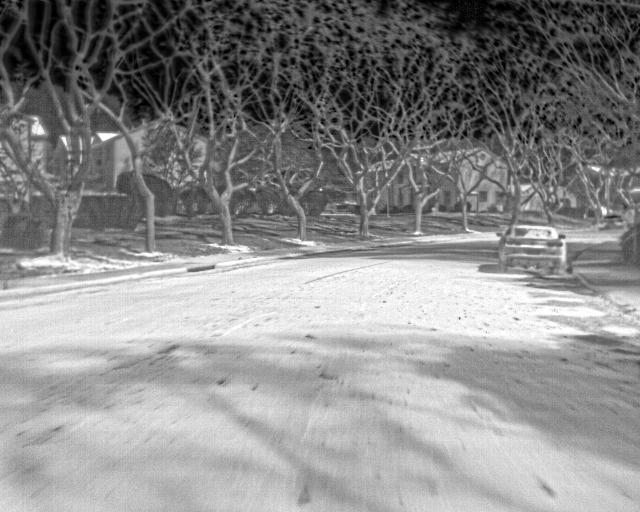car: (498, 221, 565, 279), (600, 212, 623, 230)
